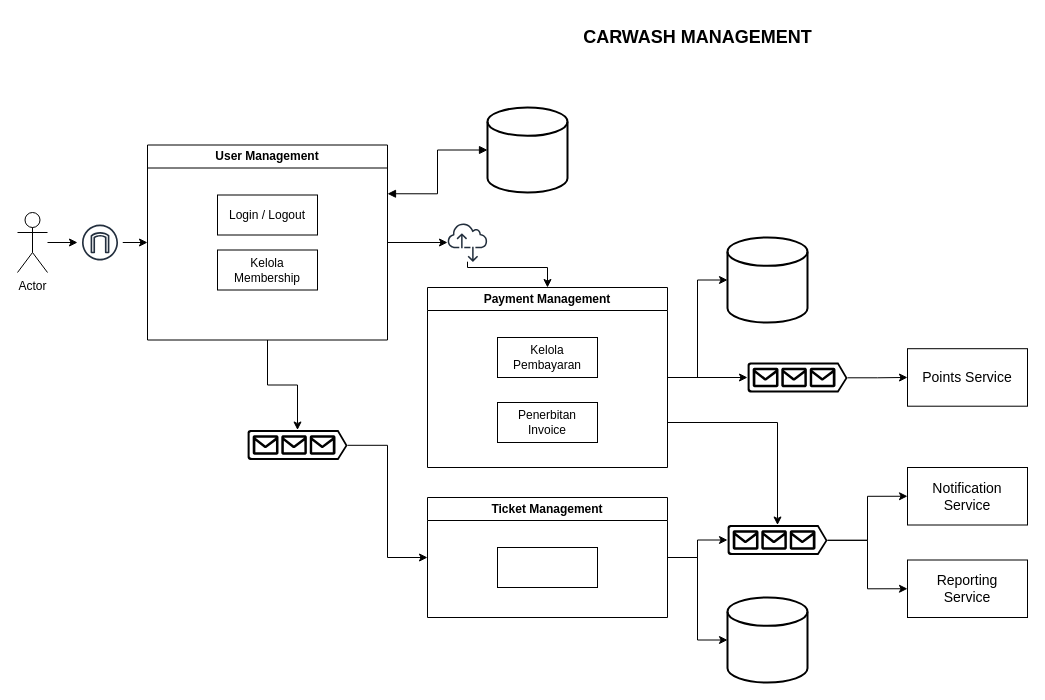
This 1045x700 diagram has some shape labels left out. Each missing label, with the box of its shape:
Database User: (486, 106, 568, 193)
DB Payment: (726, 236, 808, 323)
DB Ticket: (726, 596, 808, 683)
Internet gateway: (76, 219, 122, 265)
Kelola Aduan: (496, 546, 598, 588)
